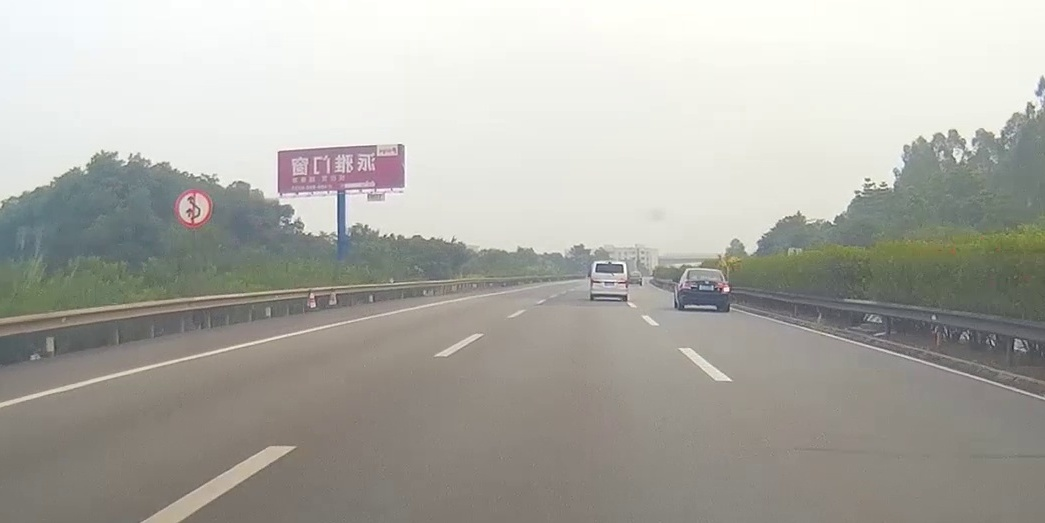L_light: (683, 281, 698, 290), (590, 280, 601, 287)
R_light: (715, 283, 729, 291), (618, 281, 628, 288)
T_light: (606, 263, 614, 266), (701, 269, 709, 272)
day-no: (589, 261, 629, 302)
day-right: (678, 268, 731, 312)
